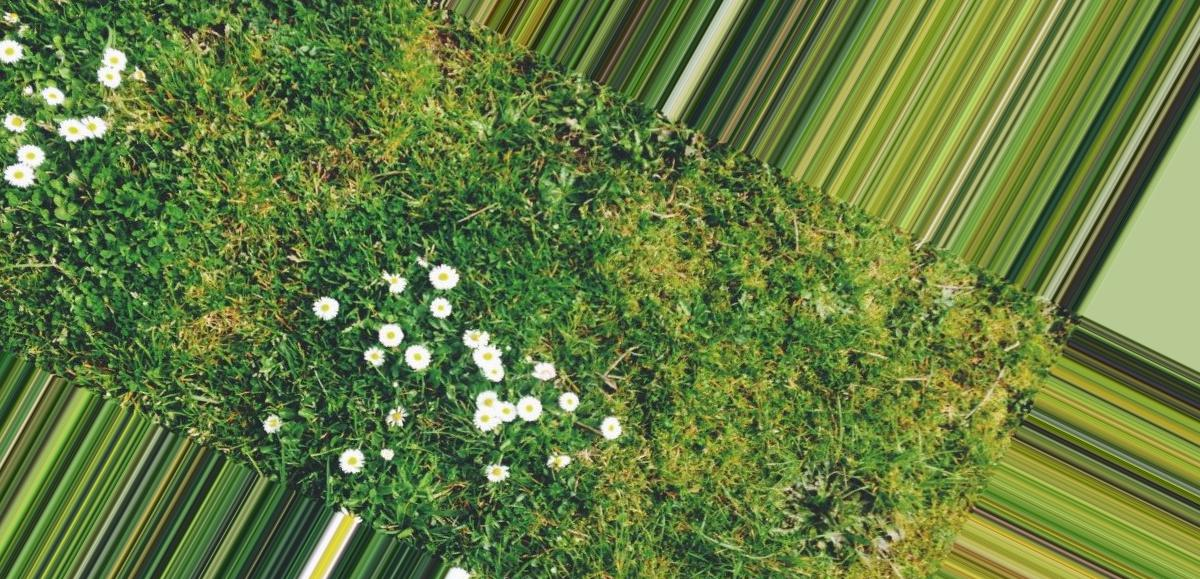patch: (400, 52, 521, 122), (891, 319, 987, 398), (124, 312, 276, 356), (621, 219, 719, 279), (247, 205, 325, 279), (782, 464, 848, 538), (561, 115, 614, 191)
